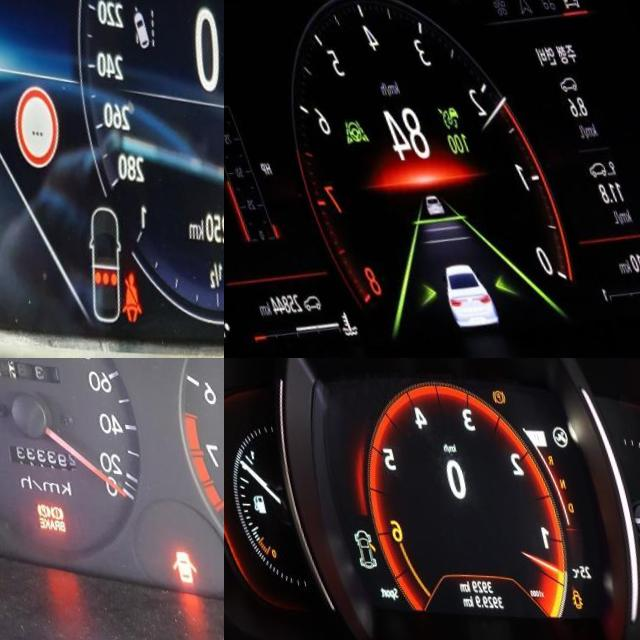Doors: (147, 546, 177, 581), (553, 585, 567, 605)
LaneCenteringOff: (325, 115, 356, 144)
